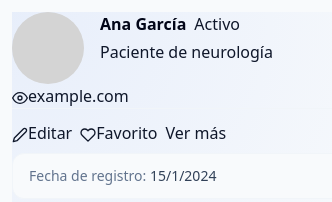
it: PatientCard › collapses back when toggle is clicked a second time
Step 1. Click the button "Ver más" → {"x": 196, "y": 133}, box [166,121,226,145]
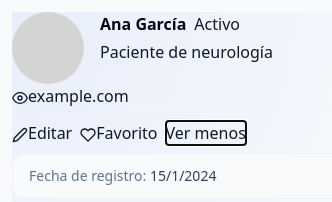
Expected: the text "Fecha de registro: 15/1/2024" is shown, [29,166,216,185]
Step 2. Click the button named "ver más" → {"x": 206, "y": 133}, box [166,121,246,145]
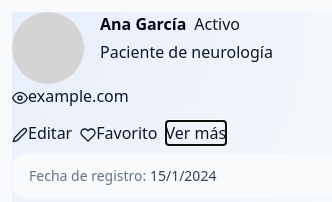
Expected: the button "Ver más" is shown, [166,121,226,145]
